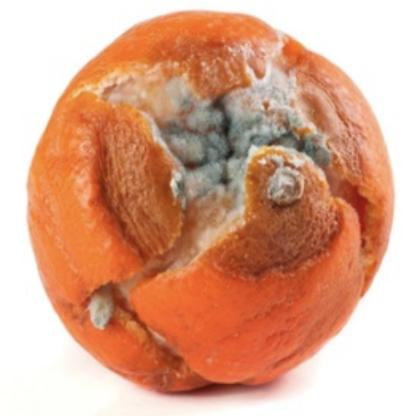rotten: (30, 11, 395, 396)
